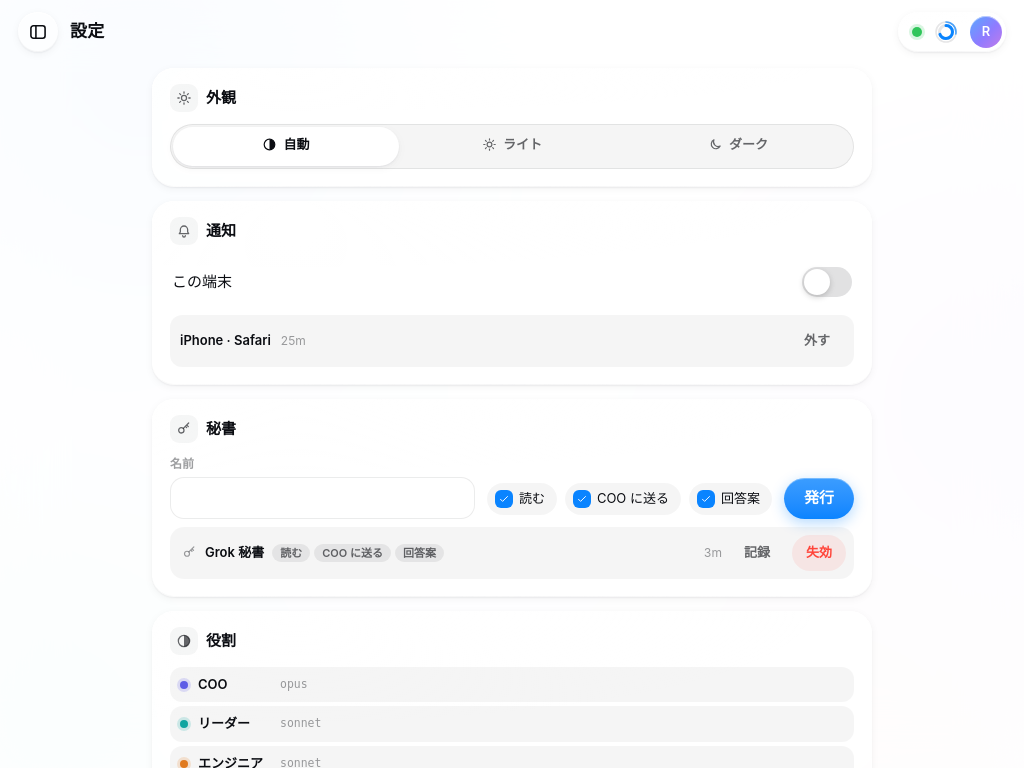
Scenario: F18 設定 › 通知: スイッチで許可を求めて購読し、端末の一覧に出る
What coordinates should you click on to do the following:
click the switch with test id "push-toggle"
I would click on:
 (202, 281)
Its box is [170, 257, 854, 307].
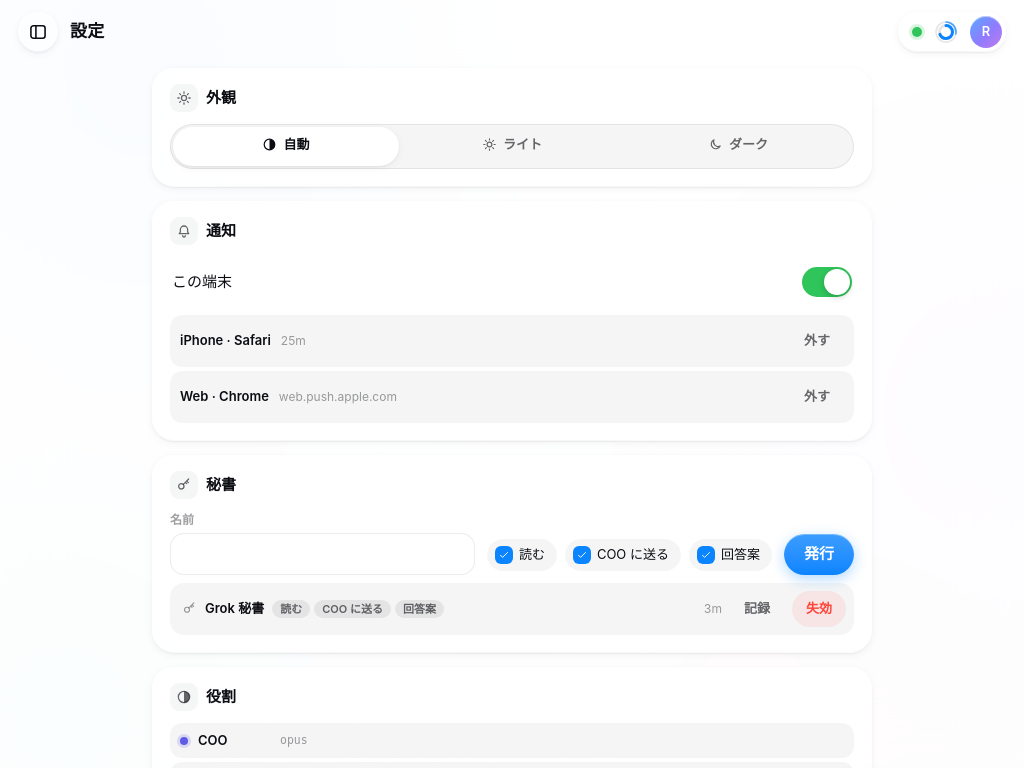
Now the number of list items with test id "push-device" is 2, box [170, 315, 854, 367]; [170, 371, 854, 423]
